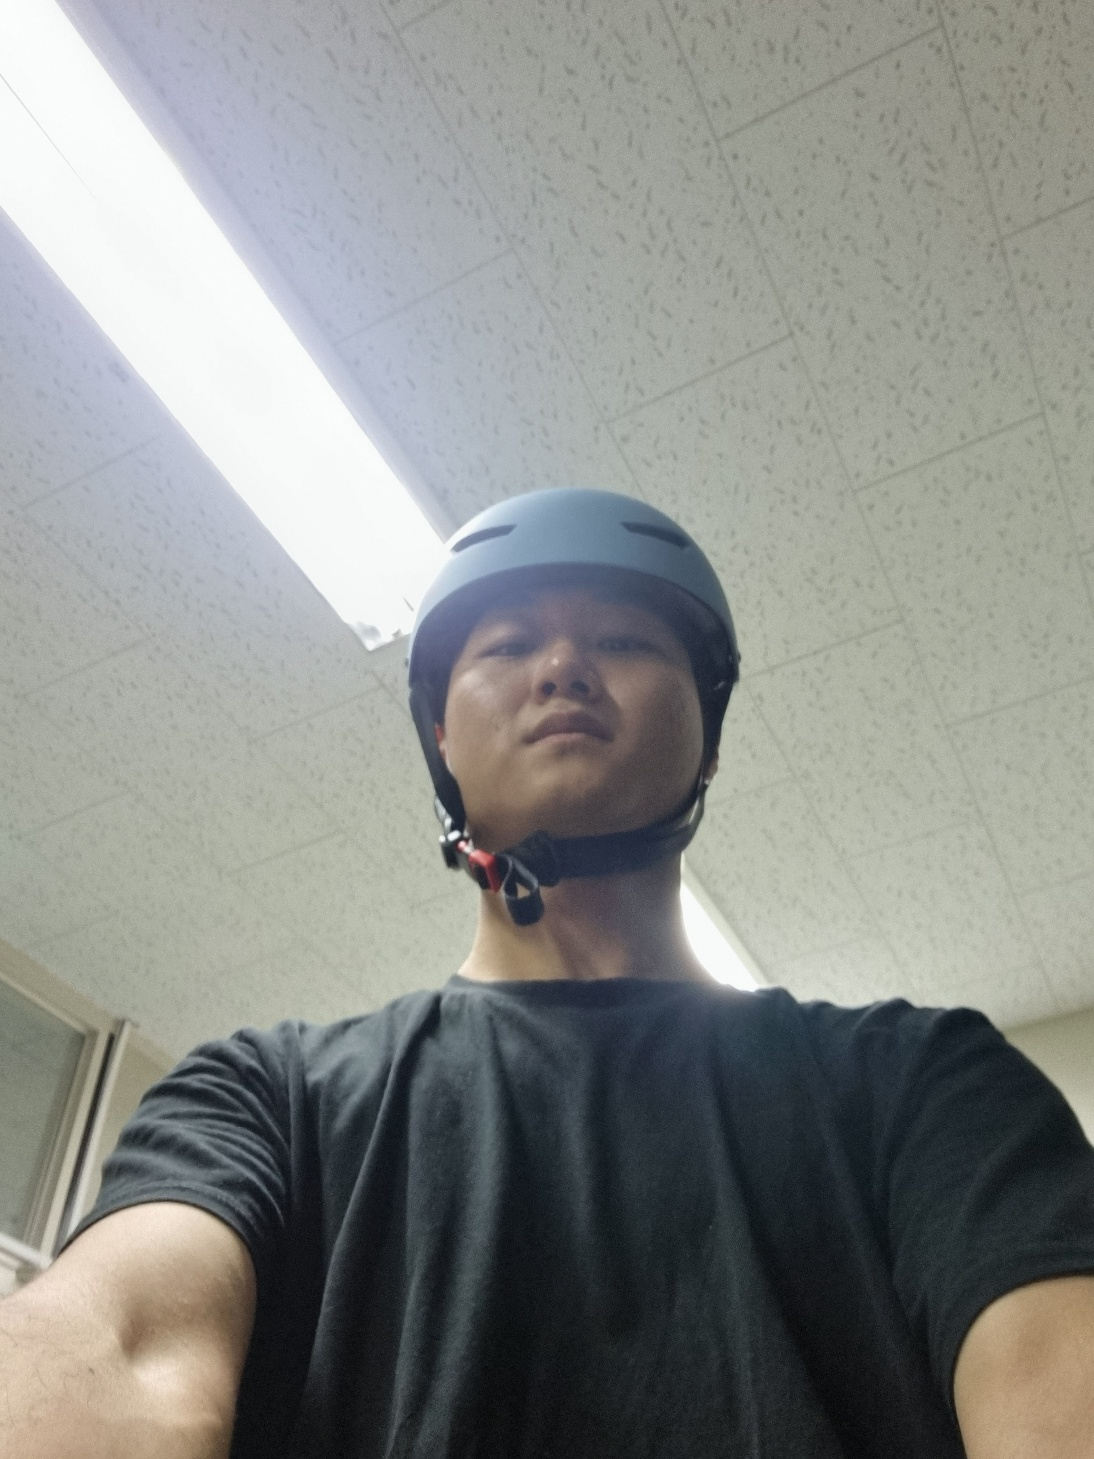Helmet: (340, 434, 816, 950)
